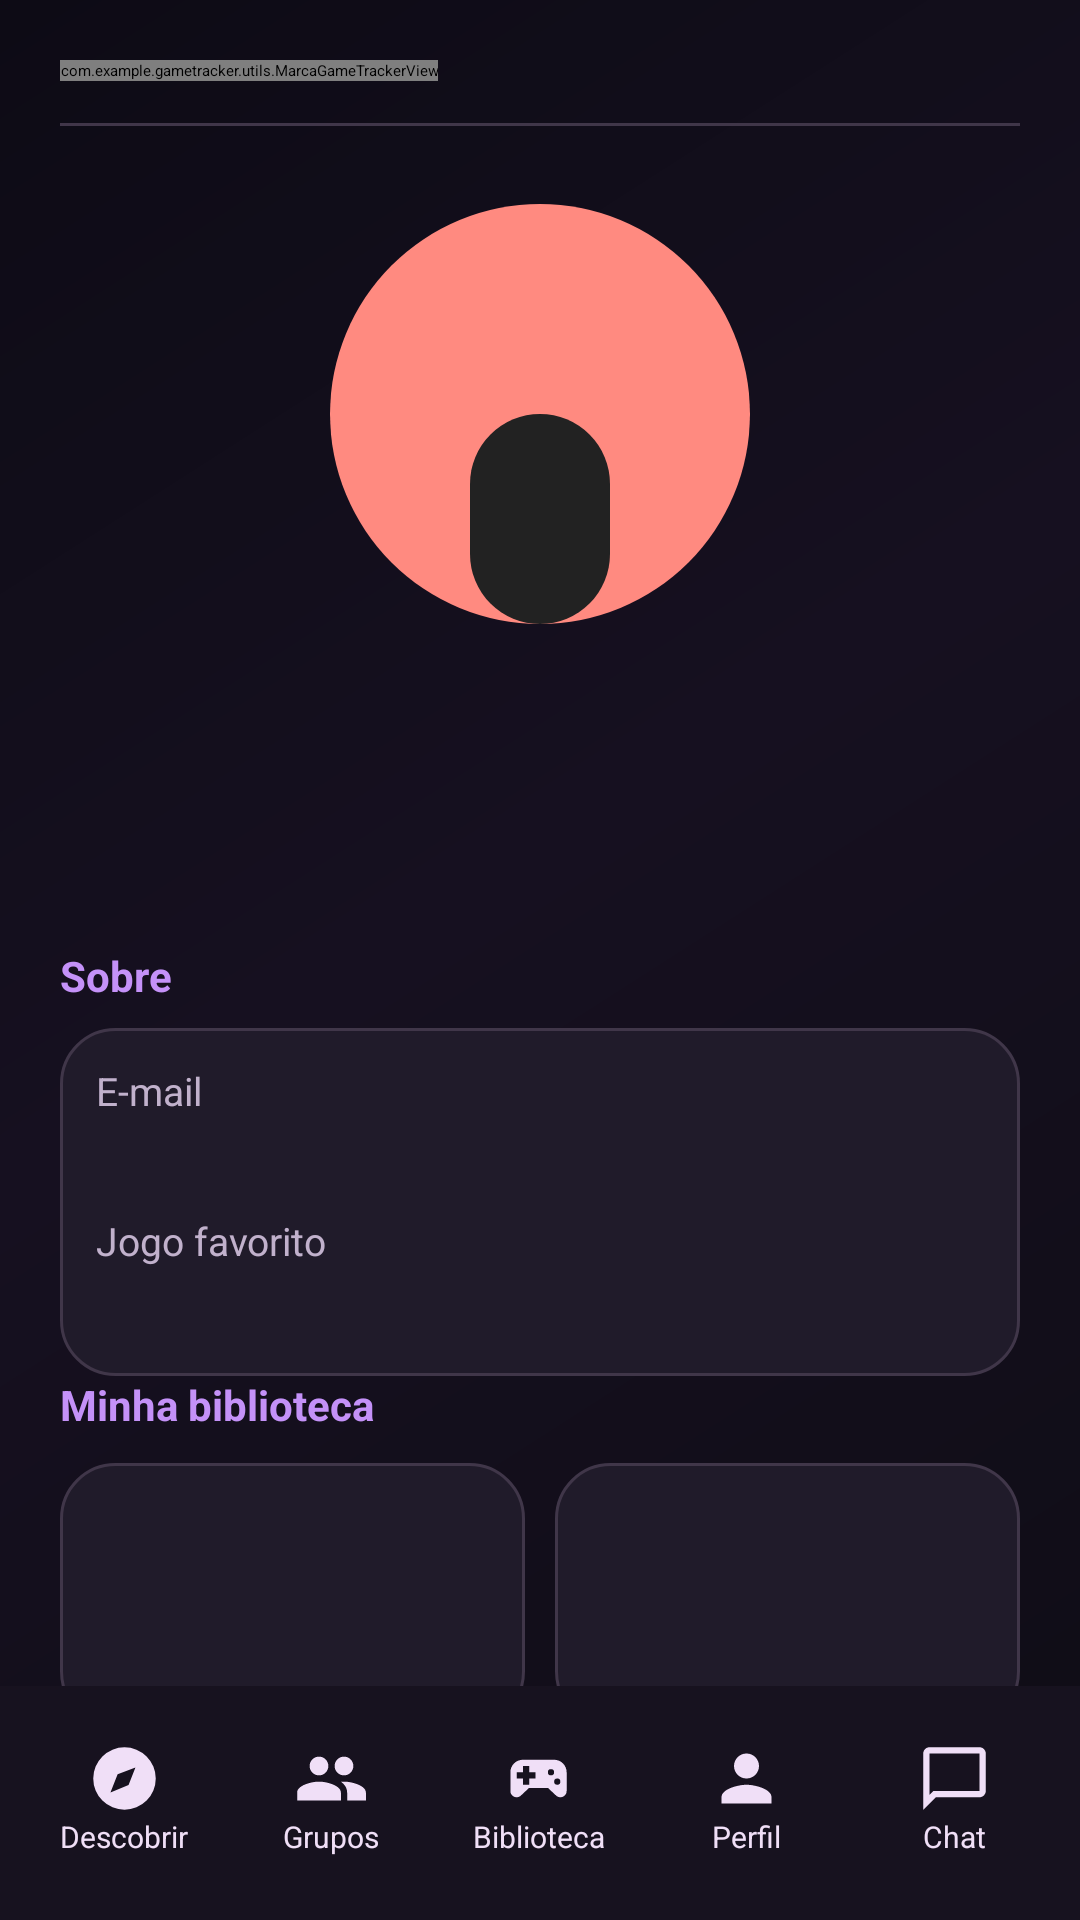

Icons on this 1080 x 1920 Android screen, each with the point to tap as (x,y):
compass: (124,1778)
gamepad: (538,1778)
user: (746,1778)
